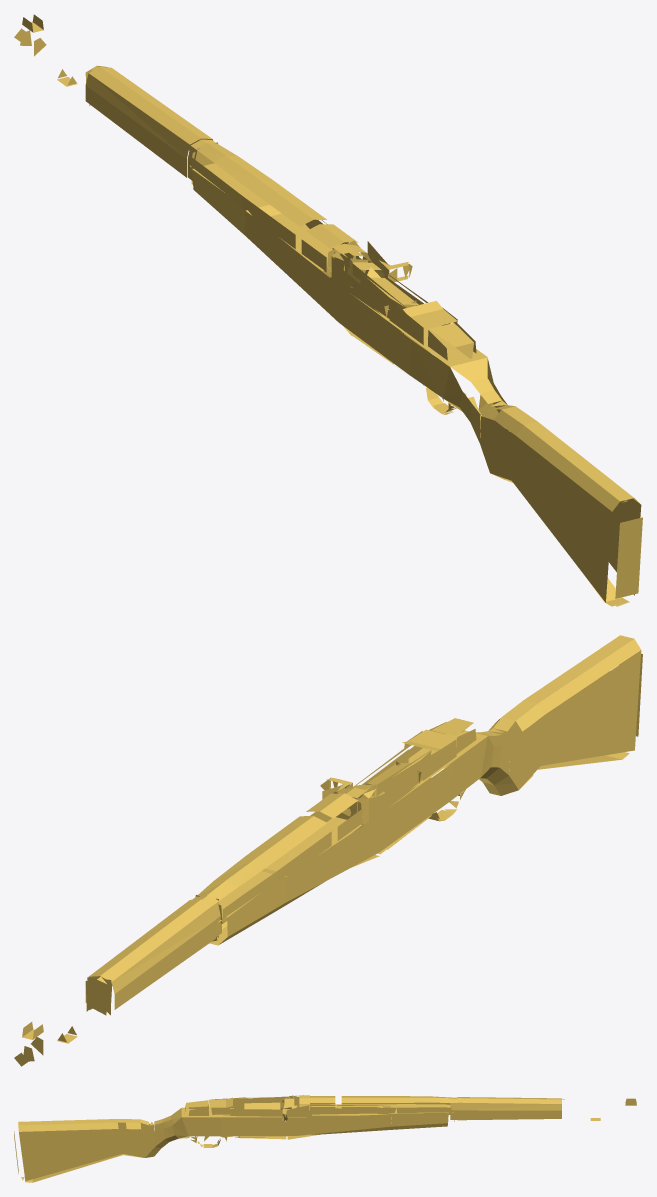
Rendered from charm_mst_fusil_7.glb.
The picture shows the model from 3 angles, top to bottom: view 1: azimuth 30°, elevation 25°; view 2: azimuth 150°, elevation 25°; view 3: azimuth 270°, elevation 25°; orthographic projection. The views are drawn at different scales.
Parts seen in each view (by area): view 1: p0_paint; view 2: p0_paint; view 3: p0_paint.
Part boxes in pixels (x1,y1,x2,y2): p0_paint: (14,14,642,606); p0_paint: (14,635,642,1066); p0_paint: (14,1095,636,1182).
Bounding box in the file's own units: 0.0683 × 0.1578 × 1.09.
